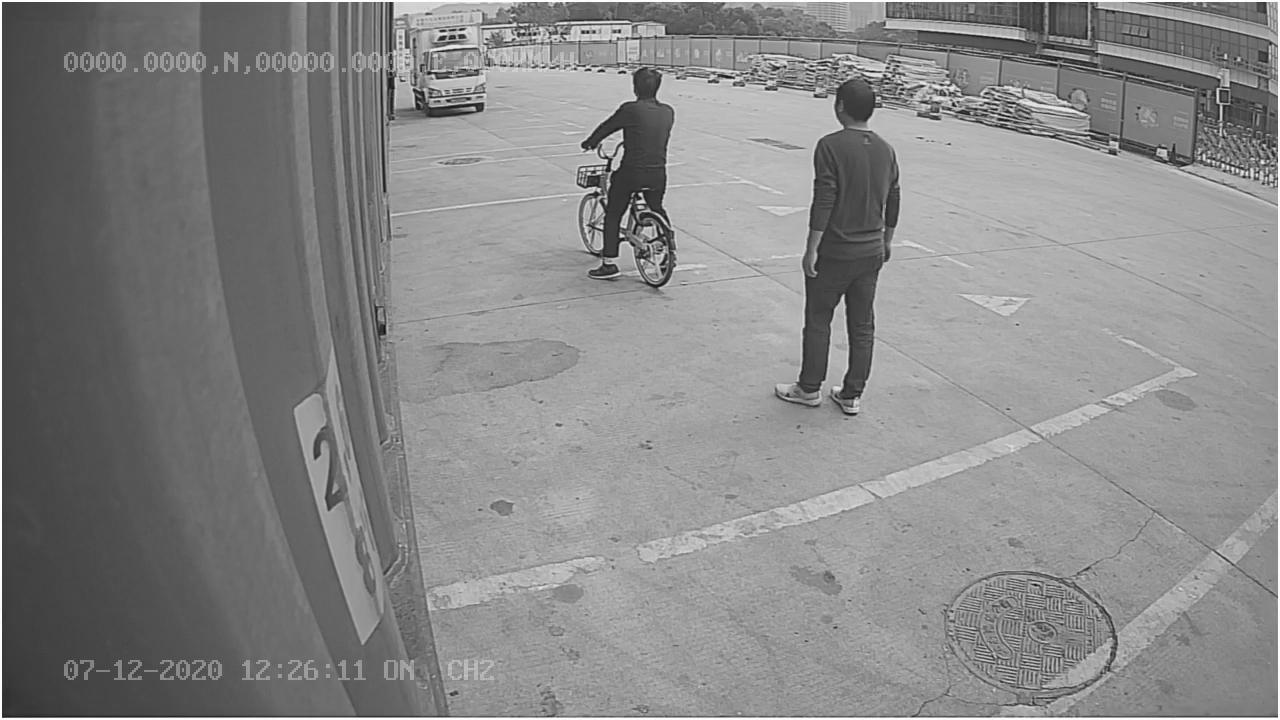person: (768, 76, 909, 421)
